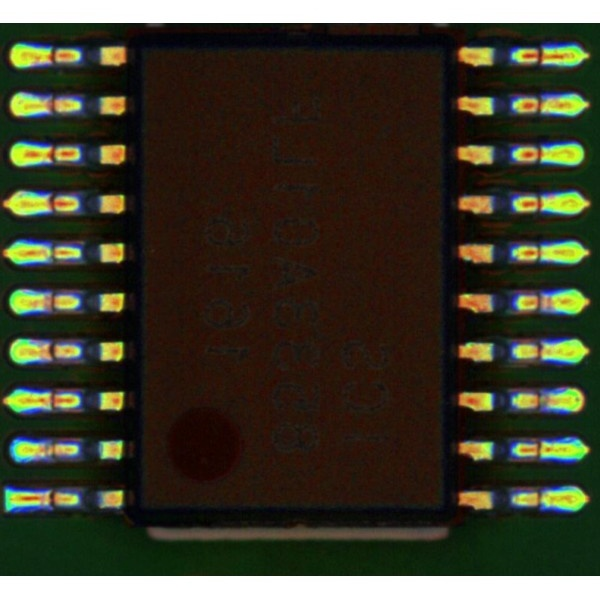Bad_podu: (527, 344, 561, 358), (35, 296, 67, 310), (34, 345, 68, 358), (28, 199, 68, 210), (528, 443, 559, 456), (38, 148, 68, 161), (42, 446, 69, 460), (32, 396, 69, 406), (527, 100, 561, 110), (34, 495, 67, 505), (528, 51, 558, 62), (35, 248, 67, 258), (527, 298, 556, 309), (37, 99, 64, 109), (35, 52, 67, 60)
